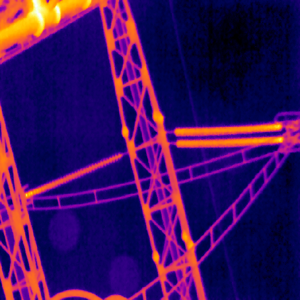insulator: (23, 151, 121, 198), (173, 121, 284, 146)
